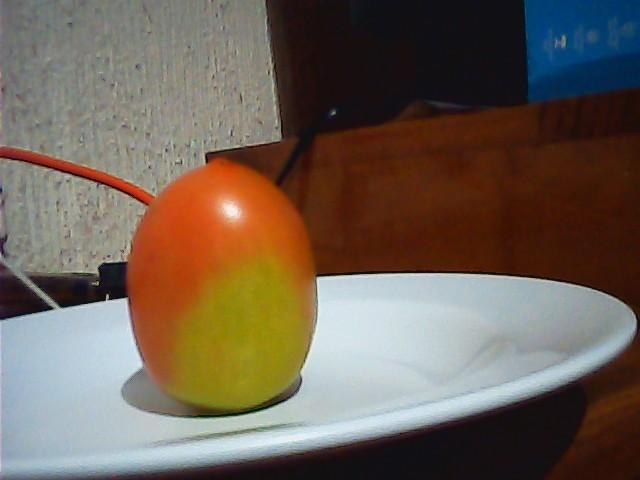verde: (126, 159, 319, 414)
